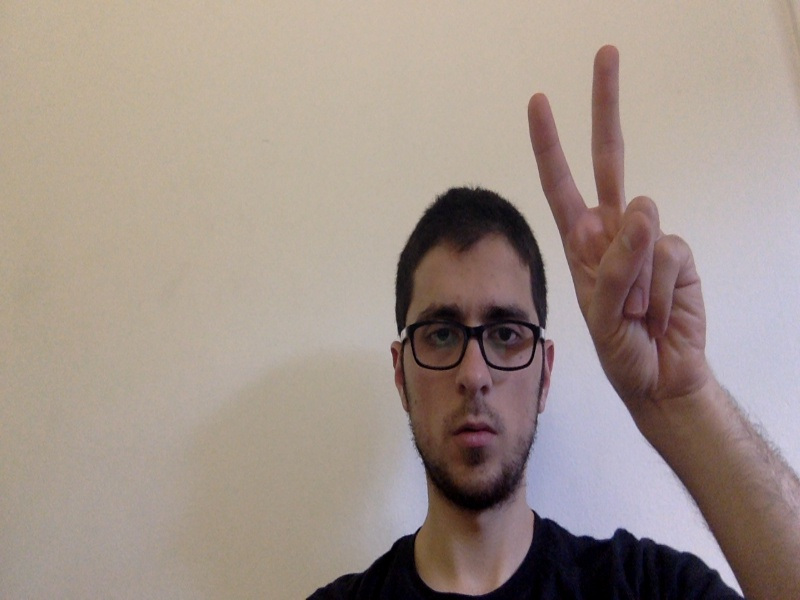2-hand: (531, 47, 709, 399)
